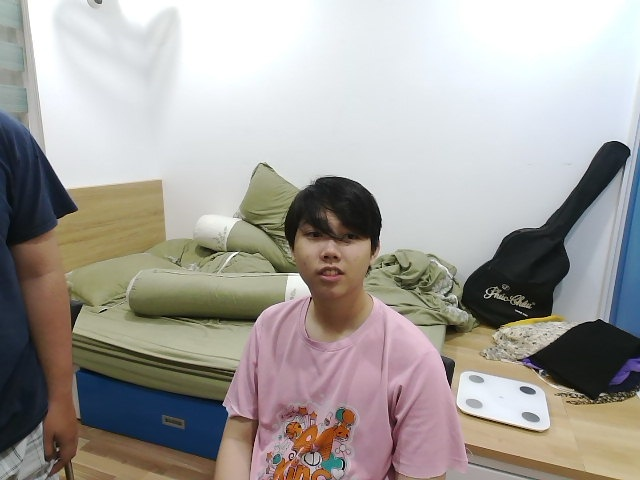face: (284, 176, 382, 296)
